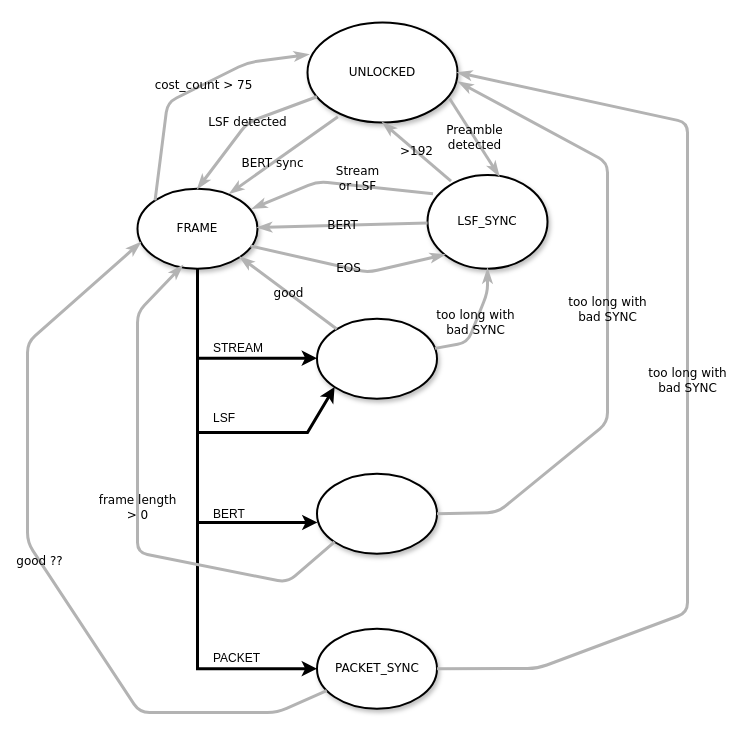
Image size: 744x738. Some labels were removed from this diagram. The shapes that lost their labels are listed below. From the top down, each one's centre as x and y in pixels, then its label:
At [378,359]: "STREAM_SYNC".
At [378,514]: "BERT_SYNC".
